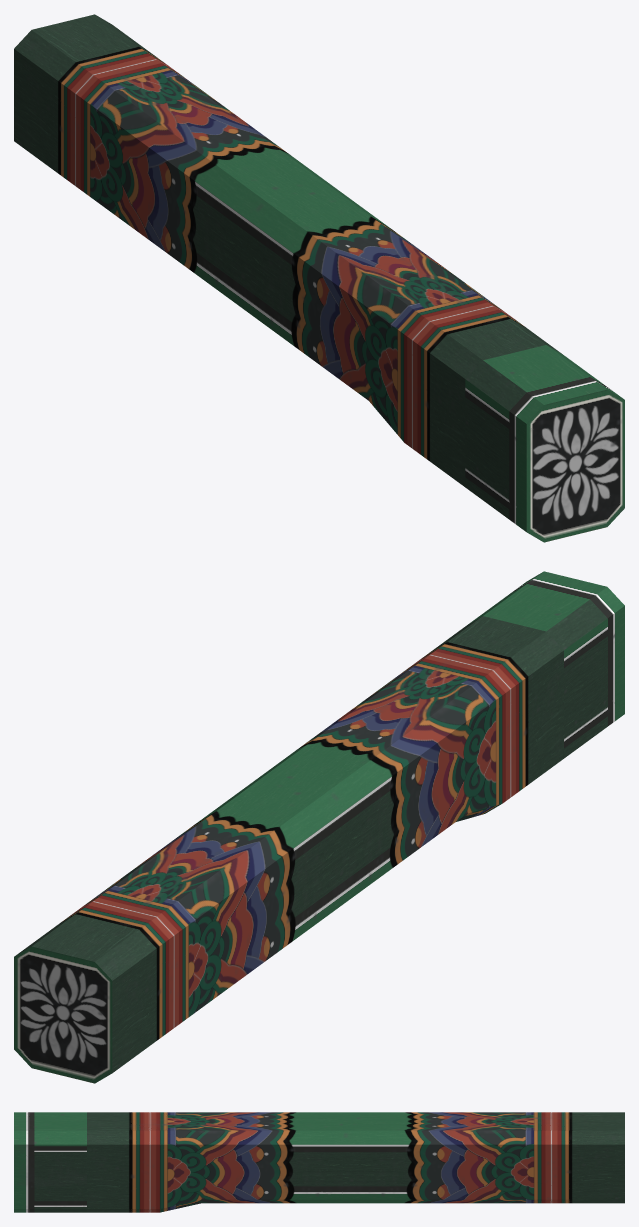
File: SM_Toetbo01b.fbx
3 views of the same model, one above another, from view 1: azimuth 30°, elevation 25°; view 2: azimuth 150°, elevation 25°; view 3: azimuth 270°, elevation 25° (orthographic). The views are drawn at different scales.
Visible parts, largest first — view 1: SM_Toetbo01b; view 2: SM_Toetbo01b; view 3: SM_Toetbo01b.
Boxes of the visible parts, bbox=[...] form: SM_Toetbo01b: bbox=[14, 14, 624, 542]; SM_Toetbo01b: bbox=[14, 571, 624, 1083]; SM_Toetbo01b: bbox=[14, 1112, 624, 1212].
Bounding box in the file's own units: 21.76 × 196 × 29.05.
Materials: 1 (1 with a texture image).
